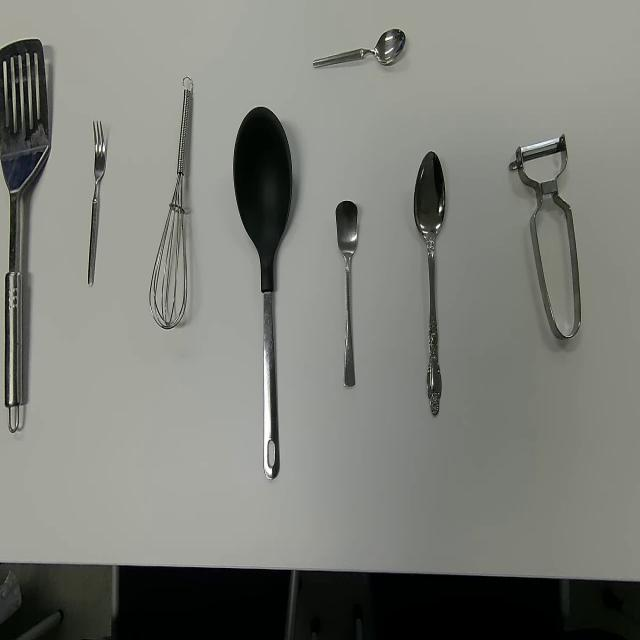Desert-Spoon: (412, 149, 447, 418)
Dinner-Fork: (86, 119, 106, 288)
Peeler: (508, 132, 582, 341)
Serving-Spoon: (232, 105, 294, 481), (0, 36, 50, 433)
Tea-Spoon: (334, 199, 358, 389), (312, 27, 406, 70)
Whisk: (148, 75, 194, 331)
